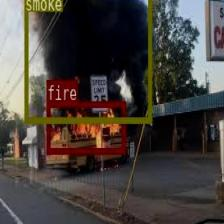fire: (46, 101, 125, 153)
smoke: (24, 0, 151, 121)
